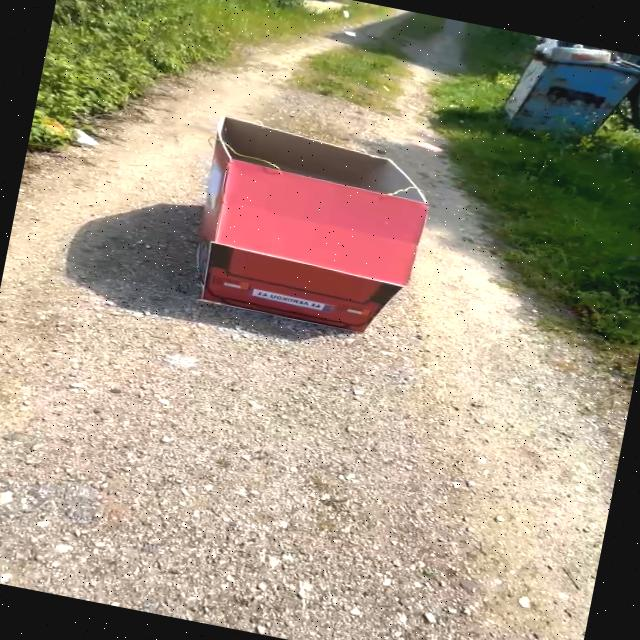red_car: (131, 77, 475, 371)
